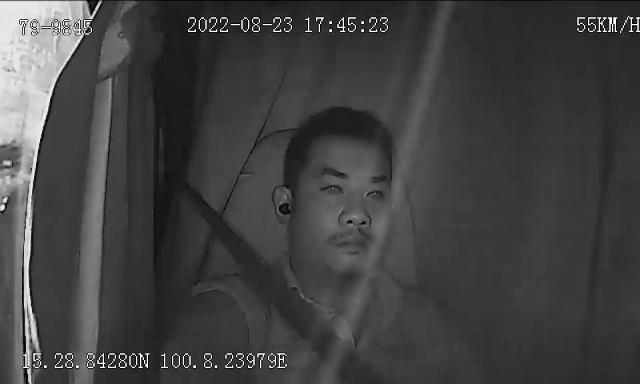SafeDriving: (314, 170, 349, 201), (359, 176, 393, 206)
Seatbelt: (190, 194, 386, 384)
